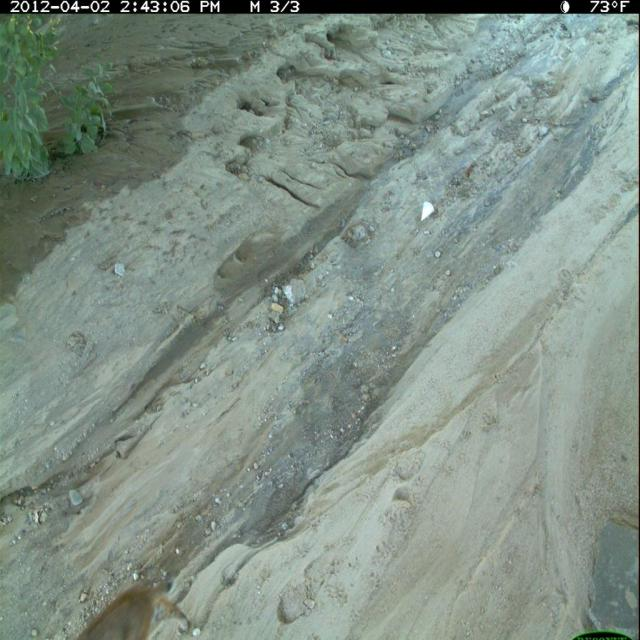bobcat: (74, 576, 193, 640)
